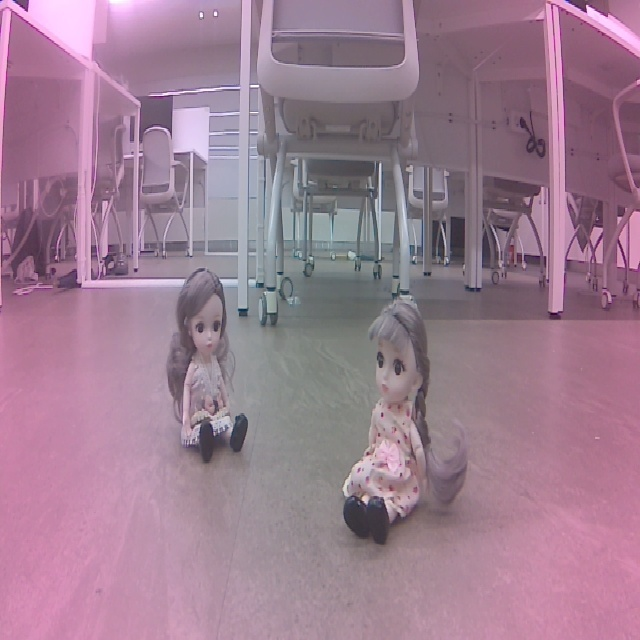장애물: (456, 263, 587, 517), (192, 245, 319, 437)
